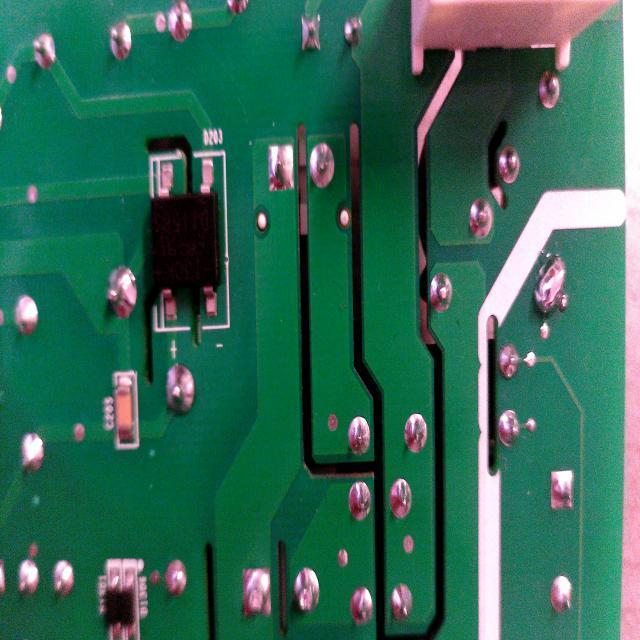Soldering shorted: (532, 243, 570, 326)
